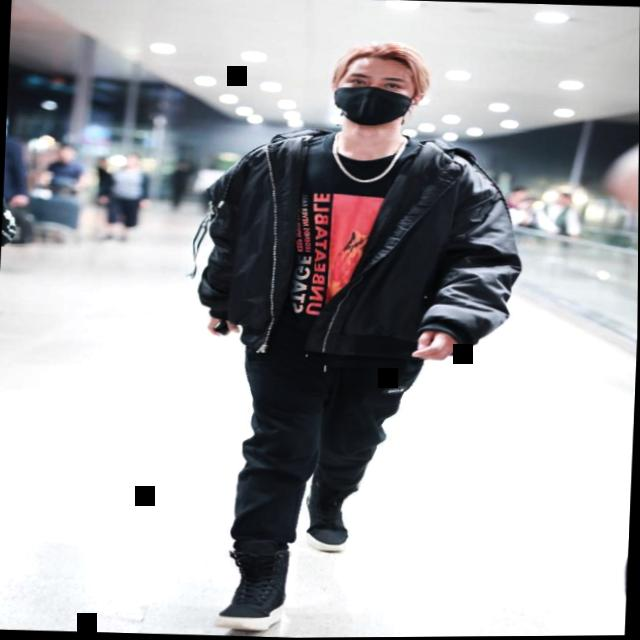Mask: (328, 61, 420, 132)
